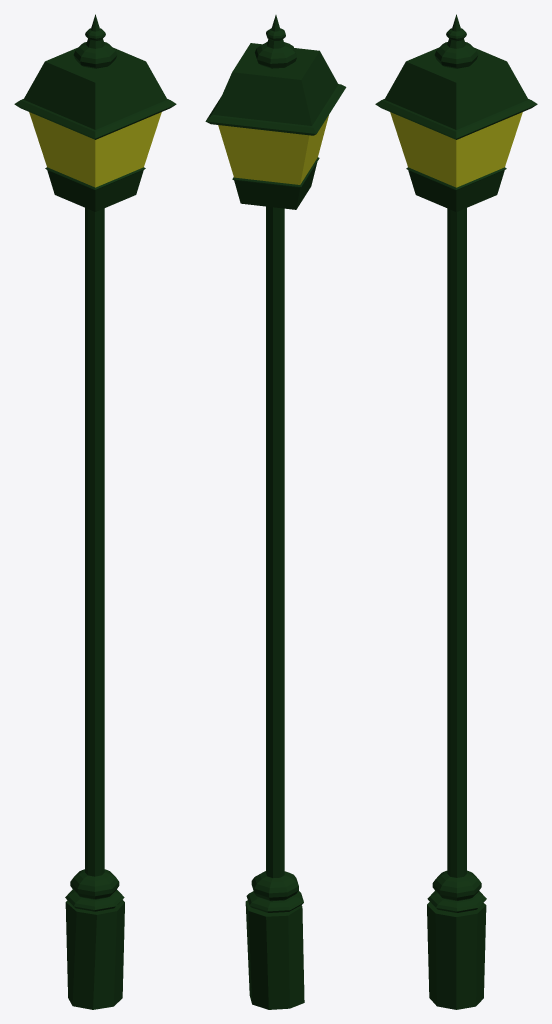
Rendered from streetlamp.fbx.
3 renders of one model, left to right at view 1: azimuth 90°, elevation 25°; view 2: azimuth 210°, elevation 25°; view 3: azimuth 270°, elevation 25°, orthographic.
Parts seen in each view (by area): view 1: Object001; view 2: Object001; view 3: Object001.
Part boxes in pixels (x1,y1,x2,y2): Object001: (14, 14, 176, 1009); Object001: (205, 15, 346, 1009); Object001: (375, 14, 537, 1009).
Bounding box in the file's own units: 5.27 × 35.14 × 5.27.
